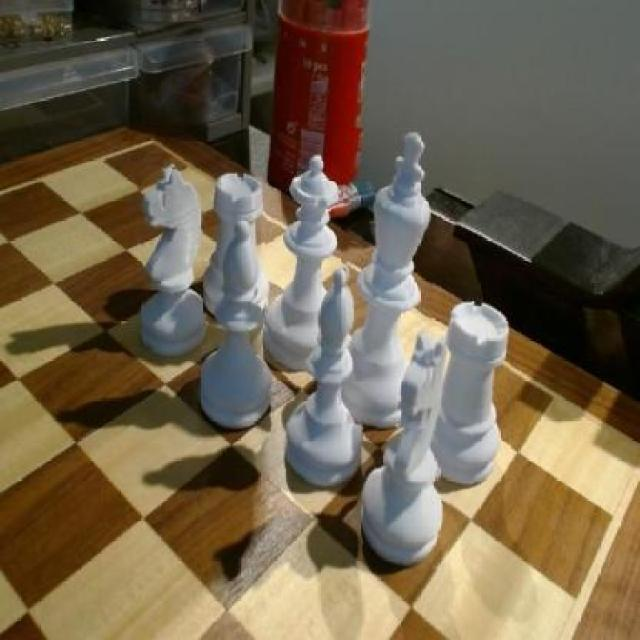black-rook: (286, 270, 367, 482), (201, 225, 274, 424)
white-bishop: (343, 131, 436, 429)
white-king: (358, 329, 454, 569), (140, 166, 208, 349)
white-pawn: (264, 158, 340, 360)
white-queen: (436, 296, 512, 486), (204, 176, 264, 316)
